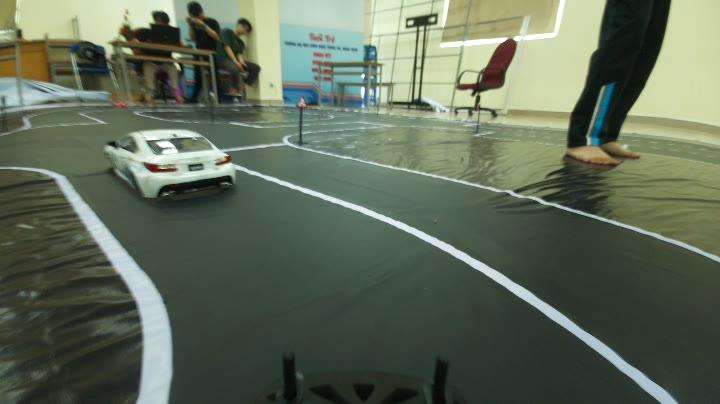car: (95, 122, 246, 214)
